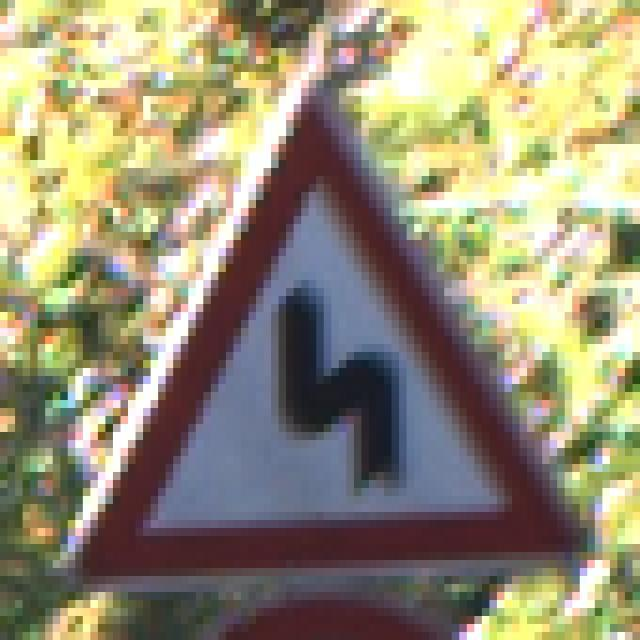left reverse bend: (59, 69, 587, 566)
